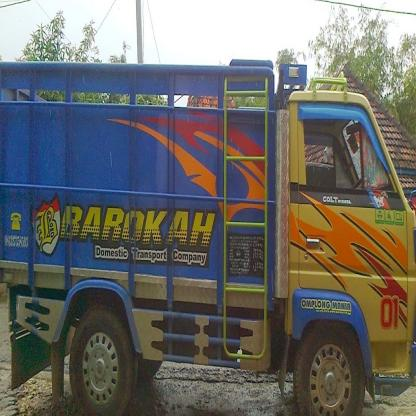truck: (2, 54, 416, 416)
